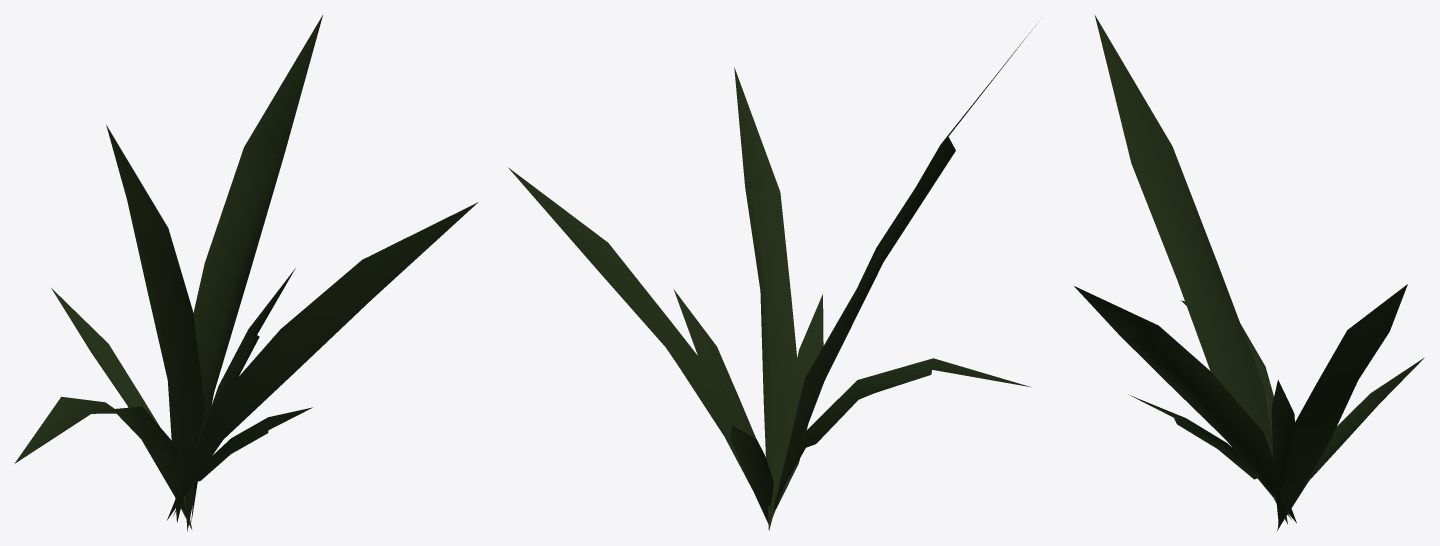
File: Grass.fbx
3 renders of one model, left to right at view 1: azimuth 30°, elevation 25°; view 2: azimuth 150°, elevation 25°; view 3: azimuth 270°, elevation 25°, orthographic. The views are drawn at different scales.
Visible parts, largest first — view 1: Plane.009; view 2: Plane.009; view 3: Plane.009.
Boxes of the visible parts, x1,y1,x2,y2 form: Plane.009: (14, 15, 478, 531); Plane.009: (508, 24, 1036, 530); Plane.009: (1074, 15, 1424, 530).
Size of the model in its own units: 354 by 405 by 295.
